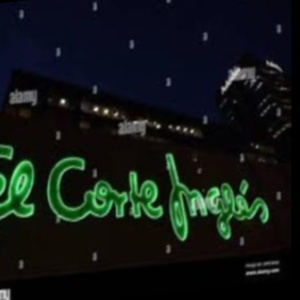corte_ingles: (286, 98, 289, 232)
